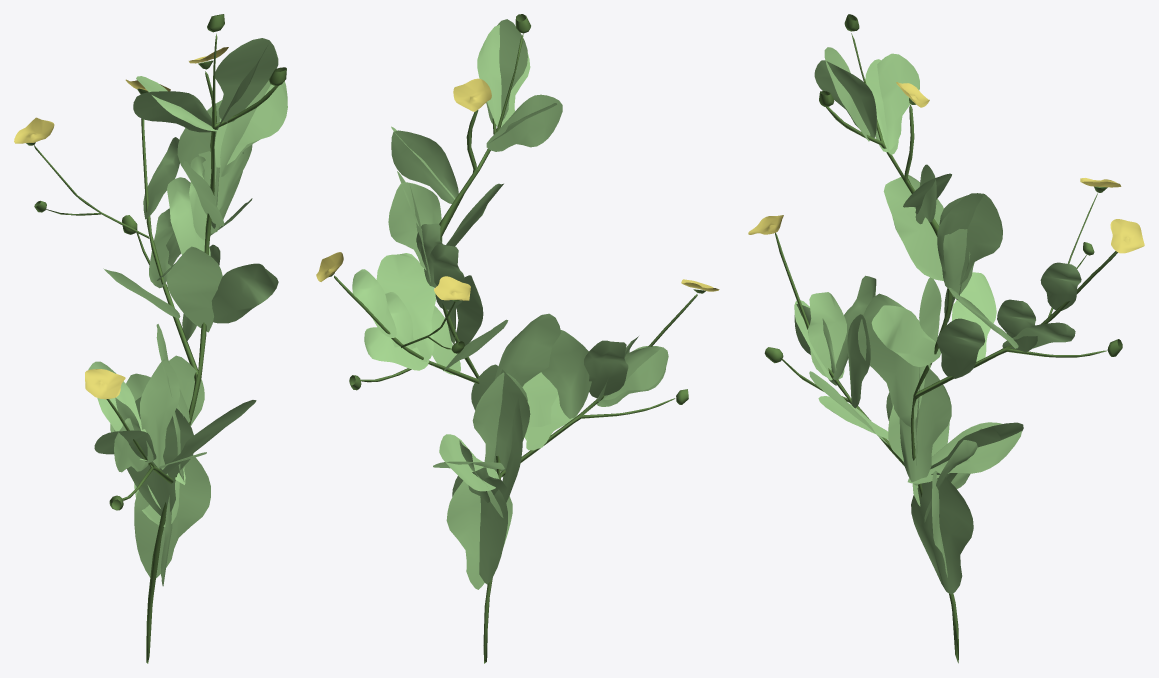
Rendered from coronilla.glb.
The picture shows the model from 3 angles, left to right: view 1: azimuth 30°, elevation 25°; view 2: azimuth 150°, elevation 25°; view 3: azimuth 270°, elevation 25°; orthographic projection. The views are drawn at different scales.
Visible parts, largest first — view 1: GS Autumn plant A 05; view 2: GS Autumn plant A 05; view 3: GS Autumn plant A 05.
Part boxes in pixels (bbox=[...]): GS Autumn plant A 05: bbox=[14, 14, 287, 663]; GS Autumn plant A 05: bbox=[316, 14, 719, 663]; GS Autumn plant A 05: bbox=[748, 14, 1144, 663].
Size of the model in its own units: 0.3384 by 0.7822 by 0.4291.
